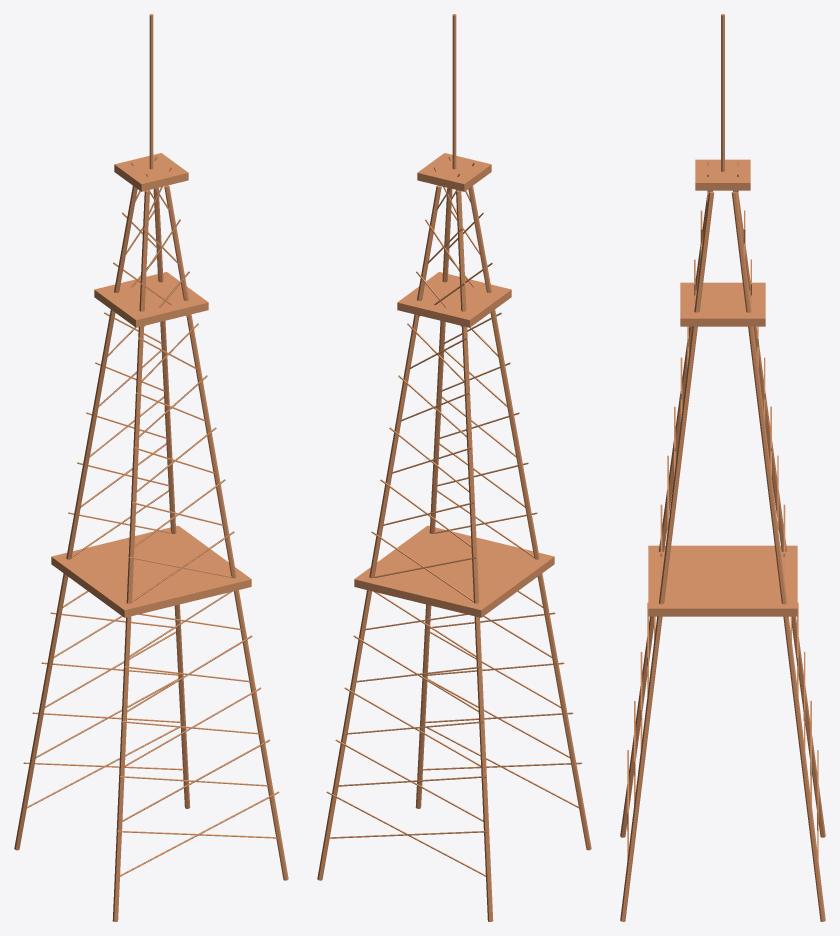
3 views of the same model, side by side, from view 1: azimuth 30°, elevation 25°; view 2: azimuth 150°, elevation 25°; view 3: azimuth 270°, elevation 25° (orthographic).
Parts seen in each view (by area): view 1: worldgen; view 2: worldgen; view 3: worldgen.
Boxes of the visible parts, x1,y1,x2,y2 form: worldgen: (14,14,288,921); worldgen: (317,14,591,921); worldgen: (620,14,825,921).
Size of the model in its own units: 71.62 by 333 by 71.86.
